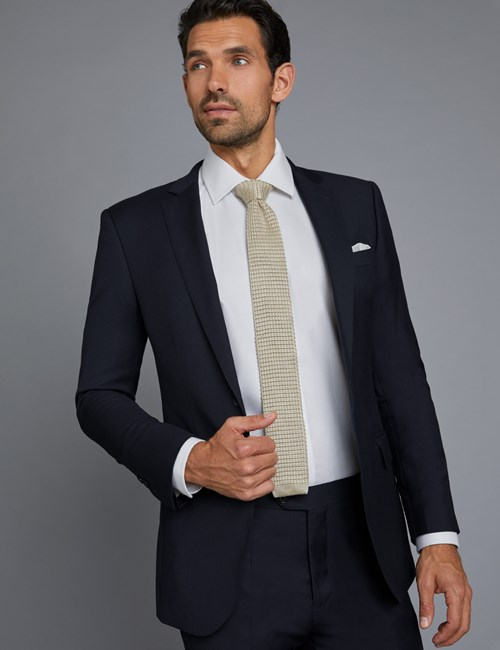F_M_suit jacket: (55, 179, 487, 612)
F_shirt: (193, 150, 343, 495)
F_tie: (213, 175, 325, 498)
